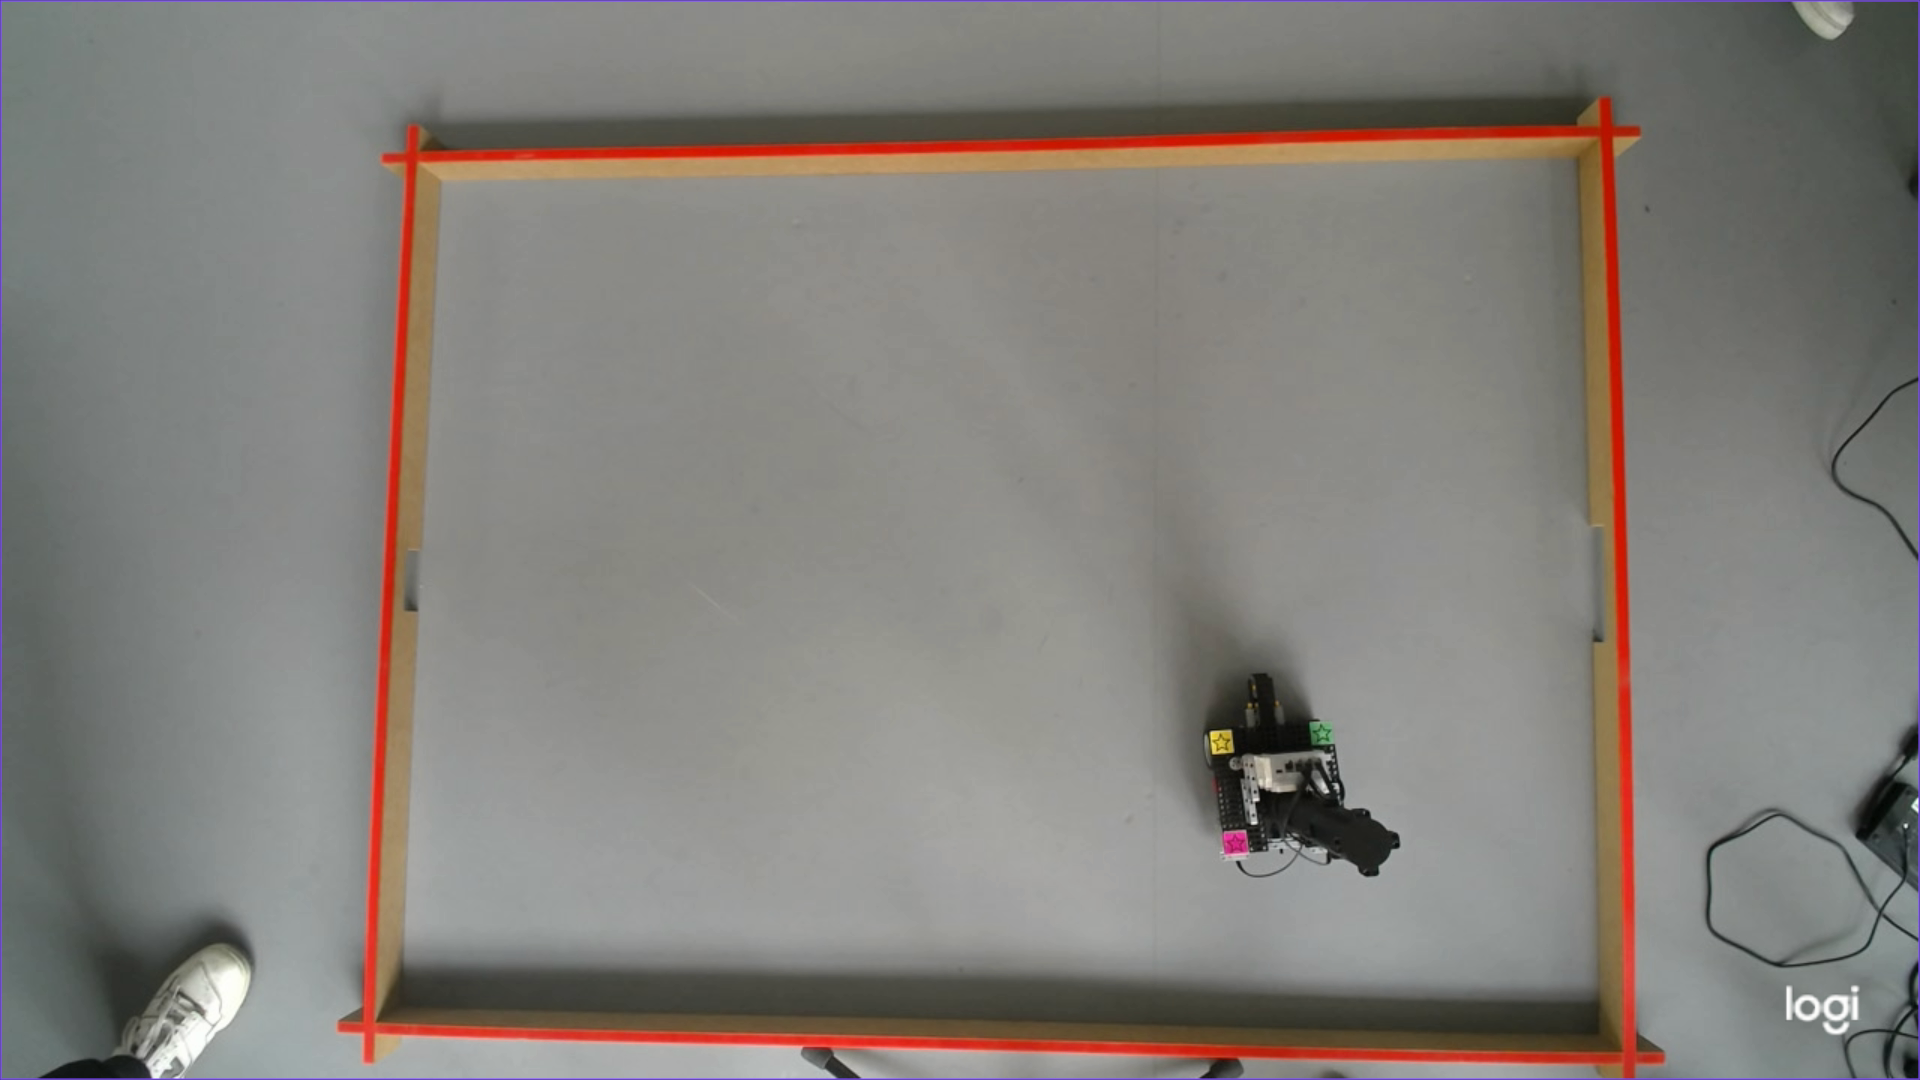corner_green: (1308, 720, 1332, 744)
corner_pink: (1222, 829, 1248, 857)
corner_yellow: (1209, 728, 1234, 754)
playfield: (341, 133, 1644, 1072)
playfield_corner: (395, 136, 432, 176), (1589, 109, 1626, 149), (1613, 1035, 1650, 1075), (351, 1005, 388, 1045)
